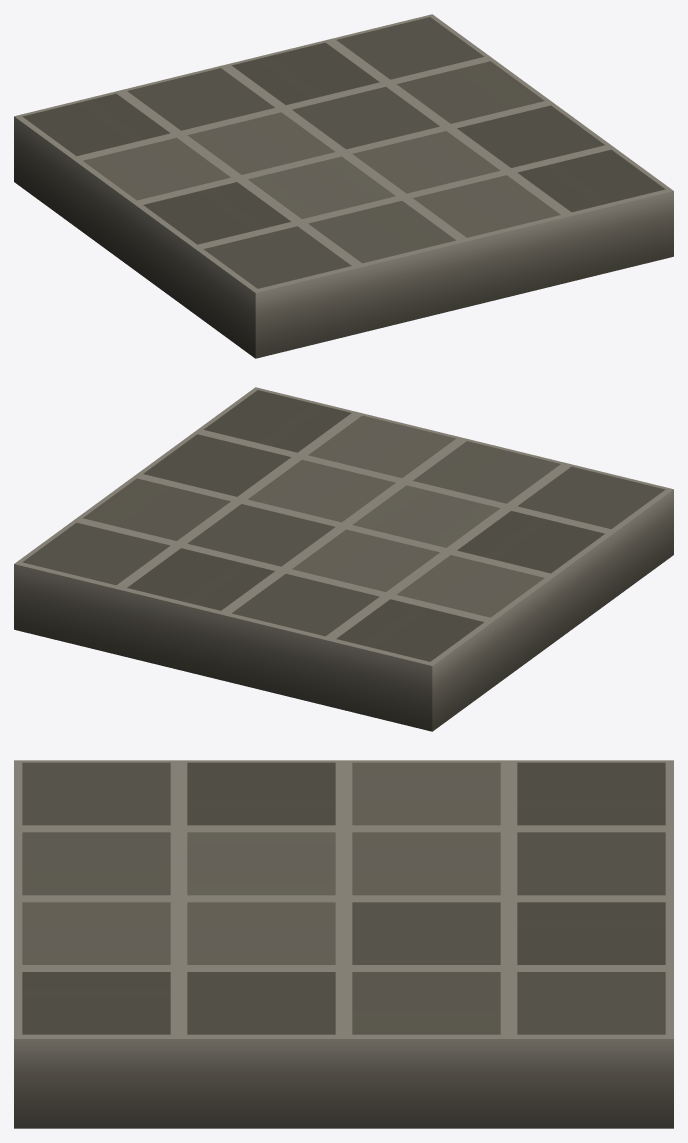
The model's file is Pavement_1Q_2X2.fbx.
The picture shows the model from 3 angles, top to bottom: view 1: azimuth 30°, elevation 25°; view 2: azimuth 150°, elevation 25°; view 3: azimuth 270°, elevation 25°; orthographic projection. The views are drawn at different scales.
Visible parts, largest first — view 1: Pavement_1Q_2X2; view 2: Pavement_1Q_2X2; view 3: Pavement_1Q_2X2.
Part boxes in pixels (x1=…): Pavement_1Q_2X2: x1=14, y1=14, x2=673, y2=358; Pavement_1Q_2X2: x1=14, y1=387, x2=673, y2=731; Pavement_1Q_2X2: x1=14, y1=760, x2=673, y2=1128.
Bounding box in the file's own units: 2 × 0.3031 × 2.
